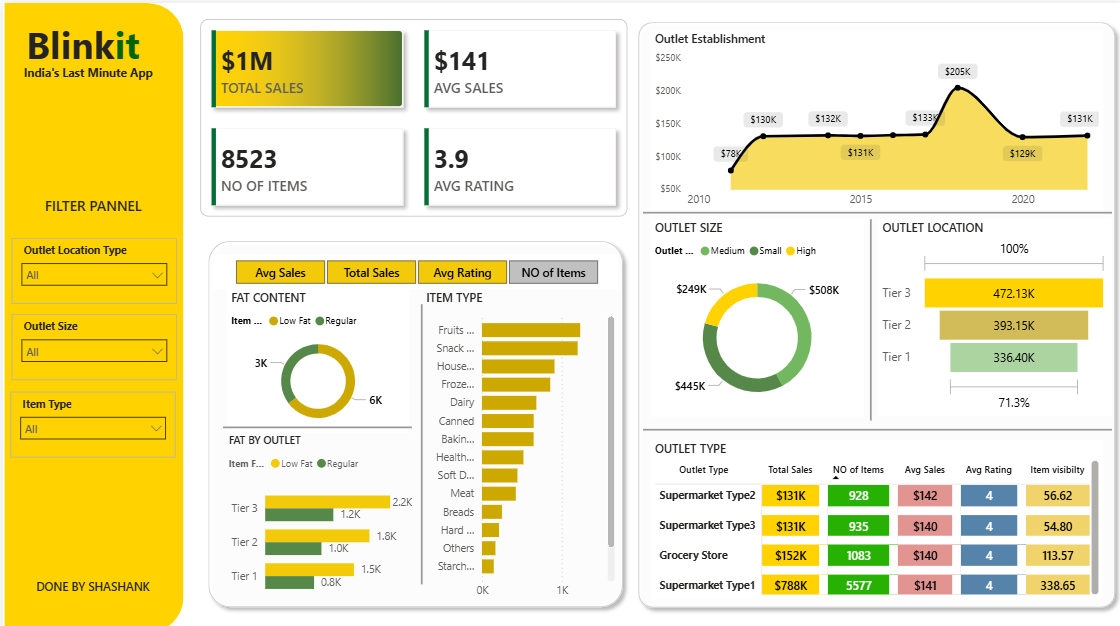

What the dashboard file says about the page in this screenshot:
{"tool":"powerbi","page":{"name":"Page 1","canvas":[1280,720],"ordinal":0},"visuals":[{"type":"shape","box":[1.7,0,205,720],"z":0},{"type":"textbox","box":[18.3,65,170,48.3],"z":1000},{"type":"textbox","box":[21.7,13.3,166.7,75],"z":2000},{"type":"cardVisual","fields":{"Data":["BlinkIT Grocery Data.Total Sales","BlinkIT Grocery Data.Avg Sales","BlinkIT Grocery Data.NO of Items","BlinkIT Grocery Data.Avg Rating"]},"box":[206.7,0,525,263.3],"z":3000},{"type":"shape","box":[225,263.3,491.7,436.7],"z":4000},{"type":"donutChart","title":"FAT CONTENT","fields":{"Y":["BlinkIT Grocery Data.NO of Items"],"Category":["BlinkIT Grocery Data.Item Fat Content"]},"box":[255,326.7,209.2,165],"z":5000},{"type":"slicer","fields":{"Values":["Metrix.Metrix"]},"box":[240,287.1,464.3,40],"z":6000},{"type":"clusteredBarChart","title":"FAT BY OUTLET","fields":{"Y":["BlinkIT Grocery Data.NO of Items"],"Category":["BlinkIT Grocery Data.Outlet Location Type"],"Series":["BlinkIT Grocery Data.Item Fat Content"]},"box":[252.5,491.2,220,200],"z":7000},{"type":"shape","box":[251.4,480,215.7,10],"z":8000},{"type":"shape","box":[471.4,344.3,14.3,320],"z":9000},{"type":"barChart","title":"ITEM TYPE","fields":{"Y":["BlinkIT Grocery Data.NO of Items"],"Category":["BlinkIT Grocery Data.Item Type"]},"box":[478.6,327.1,225.7,362.9],"z":10000},{"type":"shape","box":[717.1,12.9,562.9,687.1],"z":11000},{"type":"lineChart","title":" Outlet Establishment","fields":{"Category":["BlinkIT Grocery Data.Outlet Establishment Year"],"Y":["BlinkIT Grocery Data.Total Sales"]},"box":[740,31.2,517.5,211.2],"z":12000},{"type":"shape","box":[731.2,237.5,536.2,5],"z":13000},{"type":"funnel","title":"OUTLET LOCATION","fields":{"Category":["BlinkIT Grocery Data.Outlet Location Type"],"Y":["Sum(BlinkIT Grocery Data.Sales)"]},"box":[1000,247.5,267.5,225],"z":14000},{"type":"shape","box":[983.8,247.5,15,230],"z":15000},{"type":"shape","box":[731.2,481.2,536.2,12.5],"z":16000},{"type":"pivotTable","title":"OUTLET TYPE","fields":{"Rows":["BlinkIT Grocery Data.Outlet Type"],"Values":["BlinkIT Grocery Data.Total Sales","BlinkIT Grocery Data.NO of Items","BlinkIT Grocery Data.Avg Sales","BlinkIT Grocery Data.Avg Rating","Sum(BlinkIT Grocery Data.Item Visibility)"]},"box":[740,500,517.5,181.2],"z":17000},{"type":"slicer","fields":{"Values":["BlinkIT Grocery Data.Outlet Location Type"]},"box":[10,268.8,188.8,75],"z":18000},{"type":"slicer","fields":{"Values":["BlinkIT Grocery Data.Outlet Size"]},"box":[10,356.2,188.8,75],"z":19000},{"type":"slicer","fields":{"Values":["BlinkIT Grocery Data.Item Type"]},"box":[8.8,443.8,188.8,75],"z":20000},{"type":"textbox","box":[42.5,216.2,125,31.2],"z":21000},{"type":"donutChart","title":"OUTLET SIZE","fields":{"Y":["BlinkIT Grocery Data.Total Sales"],"Category":["BlinkIT Grocery Data.Outlet Size"]},"box":[740,247.1,244.3,225.7],"z":22000},{"type":"textbox","box":[32.9,652.9,145.7,47.1],"z":22001}]}

Visuals, with their boxes in screenshot pixels (x1, y1, x2, y2), scaled from the page's 1280x720 canvas onto the 1120x626 screenshot:
shape: select_region(1, 0, 181, 625)
textbox: select_region(16, 57, 165, 99)
textbox: select_region(19, 12, 165, 77)
cardVisual - BlinkIT Grocery Data.Total Sales x BlinkIT Grocery Data.Avg Sales: select_region(181, 0, 640, 229)
shape: select_region(197, 229, 627, 609)
"FAT CONTENT" donutChart: select_region(223, 284, 406, 428)
slicer - Metrix.Metrix: select_region(210, 250, 616, 284)
"FAT BY OUTLET" clusteredBarChart: select_region(221, 427, 413, 601)
shape: select_region(220, 417, 409, 426)
shape: select_region(412, 299, 425, 578)
"ITEM TYPE" barChart: select_region(419, 284, 616, 600)
shape: select_region(627, 11, 1119, 609)
" Outlet Establishment" lineChart: select_region(648, 27, 1100, 211)
shape: select_region(640, 206, 1109, 211)
"OUTLET LOCATION" funnel: select_region(875, 215, 1109, 411)
shape: select_region(861, 215, 874, 415)
shape: select_region(640, 418, 1109, 429)
"OUTLET TYPE" pivotTable: select_region(648, 435, 1100, 592)
slicer - BlinkIT Grocery Data.Outlet Location Type: select_region(9, 234, 174, 299)
slicer - BlinkIT Grocery Data.Outlet Size: select_region(9, 310, 174, 375)
slicer - BlinkIT Grocery Data.Item Type: select_region(8, 386, 173, 451)
textbox: select_region(37, 188, 147, 215)
"OUTLET SIZE" donutChart: select_region(648, 215, 861, 411)
textbox: select_region(29, 568, 156, 609)
